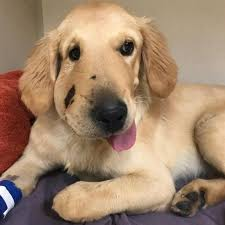Bulldog: (16, 6, 225, 217)
